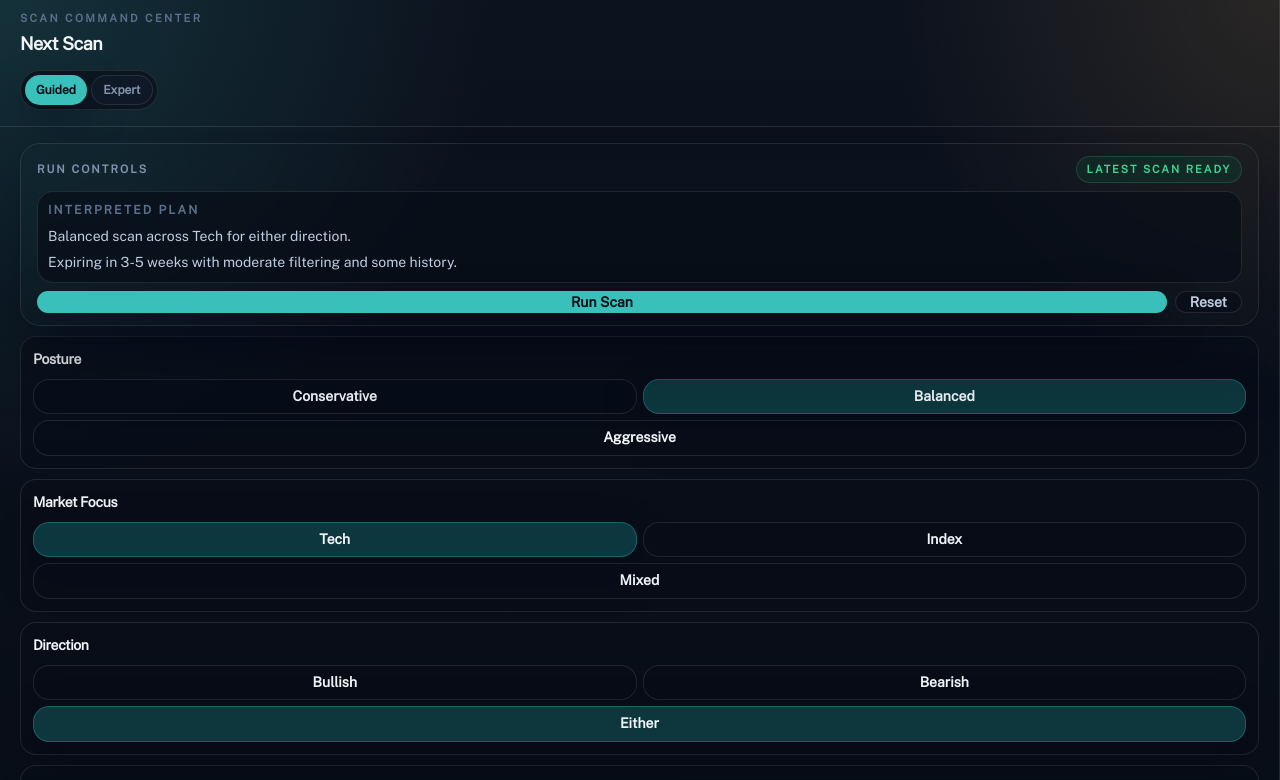
Test case: Sidebar › renders the grouped scan command structure with an anchored run zone and expert toggle
Expected: the element with test id "sidebar-mode-switch" is shown, 20,70 -> 158,110
Expected: the element with test id "sidebar-section-posture" is shown, 20,336 -> 1259,469
Click the button with test id "mode-expert": (122, 90) 91,75 -> 153,105
(page scrolled)
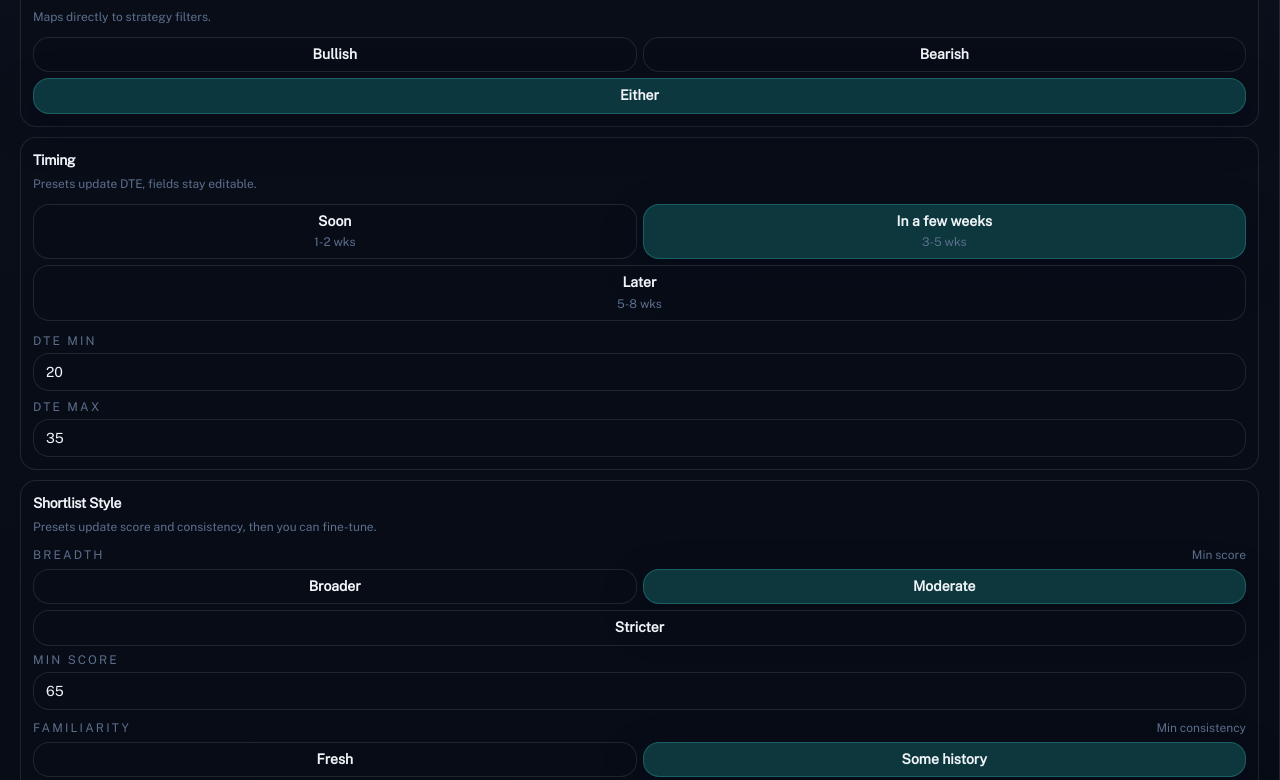
Expected: the element with test id "expert-fields" is shown, 33,333 -> 1246,457
